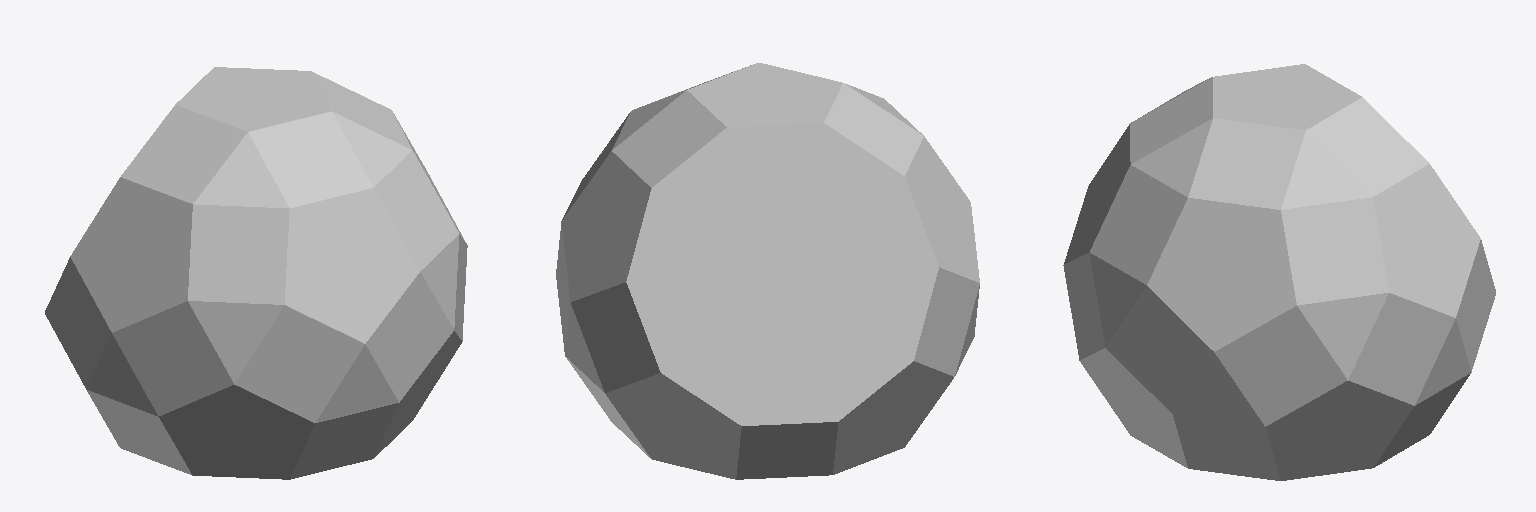
The model's file is MetabiDiminishedRhombIcosiDodecahedron.obj.
The picture shows the model from 3 angles: view 1: azimuth 30°, elevation 25°; view 2: azimuth 150°, elevation 25°; view 3: azimuth 270°, elevation 25°; orthographic projection.
Visible parts, largest first — view 1: MetaBiDiminishedRhombIcosiDodecahedron; view 2: MetaBiDiminishedRhombIcosiDodecahedron; view 3: MetaBiDiminishedRhombIcosiDodecahedron.
Part boxes in pixels (x1,y1,x2,y2): MetaBiDiminishedRhombIcosiDodecahedron: (45,67,467,479); MetaBiDiminishedRhombIcosiDodecahedron: (556,63,979,479); MetaBiDiminishedRhombIcosiDodecahedron: (1063,64,1495,480).
Bounding box in the file's own units: 3.18 × 2.7 × 3.34.